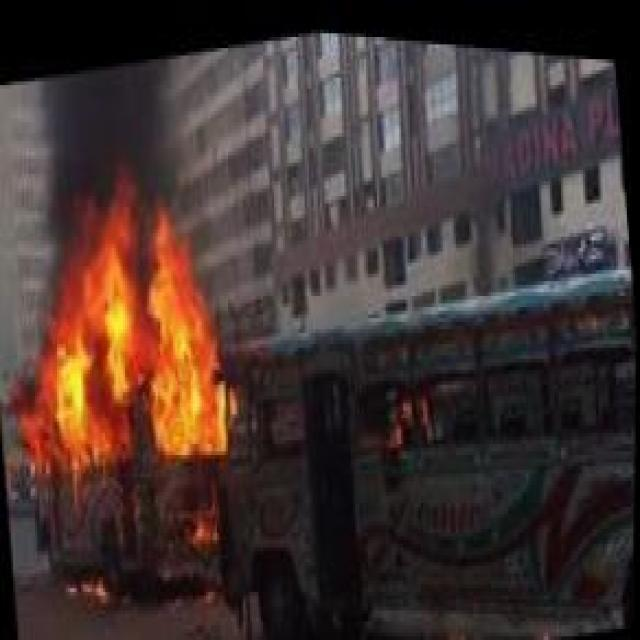Fire: (0, 133, 254, 529), (357, 348, 447, 470), (44, 518, 132, 636), (165, 477, 232, 570)
Smoke: (22, 36, 184, 204)
